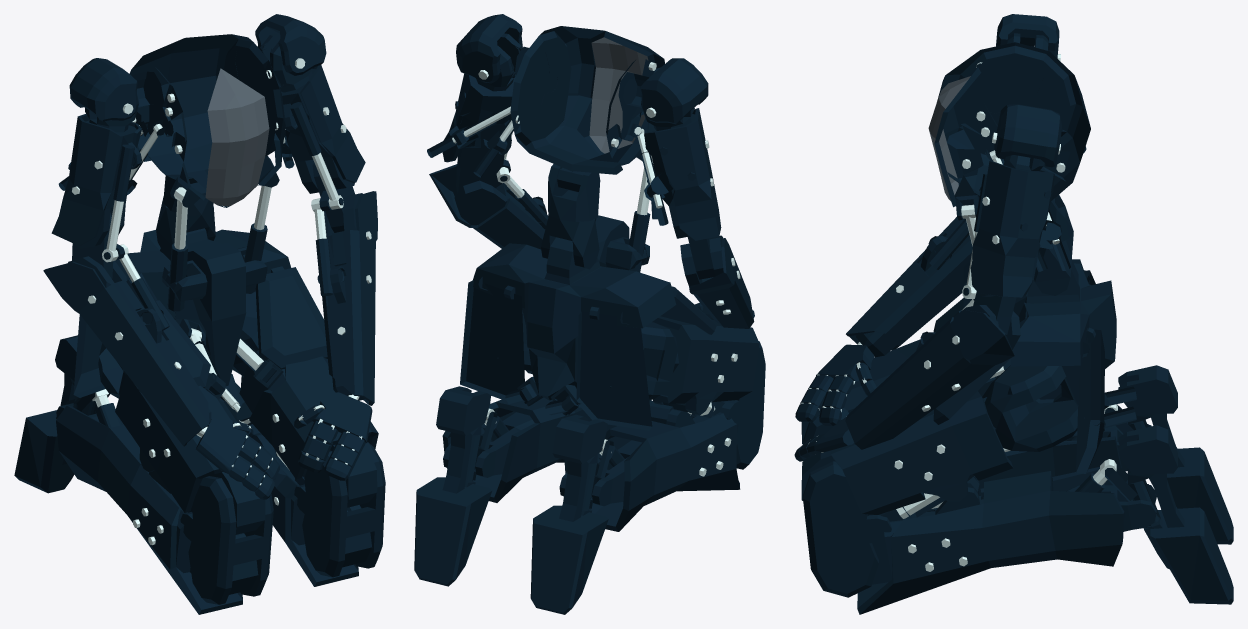
Rendered from batossit.fbx.
3 views of the same model, side by side, from view 1: azimuth 30°, elevation 25°; view 2: azimuth 150°, elevation 25°; view 3: azimuth 270°, elevation 25° (orthographic). The views are drawn at different scales.
Visible parts, largest first — view 1: batos.028, batos.109, batos.053, batos.130, batos.039, batos.038, batos.024, batos.103, batos.025, batos.017, batos.010, batos.124 (+29 smaller); view 2: batos.028, batos.011, batos.053, batos.019, batos.018, batos.013, batos.038, batos.012, batos.103, batos.130, batos.037, batos.017 (+22 smaller); view 3: batos.037, batos.028, batos.039, batos.130, batos.018, batos.124, batos.025, batos.109, batos.011, batos.019, batos.023, batos.016 (+16 smaller).
Part boxes in pixels (x1,y1,x2,y2): batos.028: (129,34,285,207); batos.109: (43,256,211,446); batos.053: (56,405,258,614); batos.130: (322,191,377,405); batos.039: (239,350,378,507); batos.038: (115,374,265,534); batos.024: (180,476,273,604); batos.103: (51,114,141,248); batos.025: (294,442,385,577); batos.017: (160,228,246,386); batos.010: (255,266,327,369); batos.124: (281,65,365,193); batos.028: (510,26,664,192); batos.011: (473,243,676,363); batos.053: (564,401,740,531); batos.019: (530,414,608,614); batos.018: (414,386,491,586); batos.013: (576,306,652,430); batos.038: (652,316,759,414); batos.012: (460,277,524,400); batos.103: (644,108,721,240); batos.130: (429,164,546,249); batos.037: (442,395,616,502); batos.017: (529,215,629,400); batos.037: (857,467,1124,614); batos.028: (928,42,1090,207); batos.039: (801,391,1013,514); batos.130: (845,305,1020,449); batos.018: (1118,425,1233,604); batos.124: (970,161,1054,297); batos.025: (803,461,891,597); batos.109: (846,217,972,357); batos.011: (1010,259,1116,368); batos.019: (1118,365,1233,544); batos.023: (982,365,1084,451); batos.016: (992,104,1061,167).
Bounding box in the file's own units: 834 × 1251 × 963.
